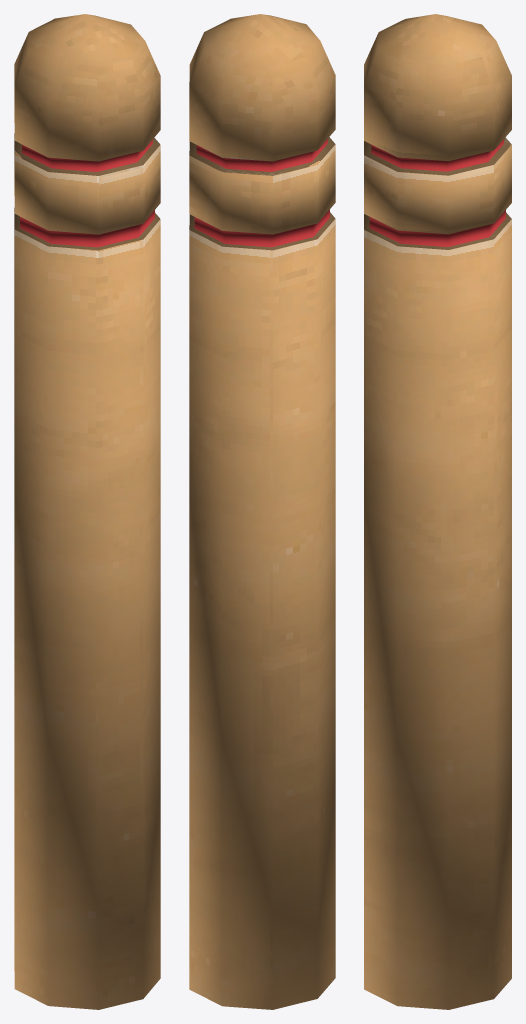
File: yellow_post.gltf
The picture shows the model from 3 angles, left to right: view 1: azimuth 30°, elevation 25°; view 2: azimuth 150°, elevation 25°; view 3: azimuth 270°, elevation 25°; orthographic projection.
Visible parts, largest first — view 1: Cylinder; view 2: Cylinder; view 3: Cylinder.
Part boxes in pixels (bbox=[...]): Cylinder: bbox=[14, 14, 160, 1009]; Cylinder: bbox=[189, 14, 335, 1009]; Cylinder: bbox=[364, 14, 511, 1009].
Bounding box in the file's own units: 0.2032 × 1.46 × 0.2032.
Materials: 1 (1 with a texture image).
